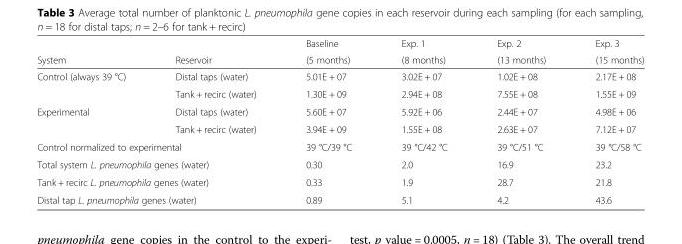table: (36, 37, 643, 205)
table column: (149, 37, 280, 205), (36, 37, 149, 205), (471, 37, 570, 205), (375, 37, 471, 205), (280, 37, 375, 205), (570, 37, 643, 205)
table column header: (36, 37, 643, 67)
table row: (36, 84, 643, 102), (36, 102, 643, 120), (36, 137, 643, 155), (36, 155, 643, 173), (36, 67, 643, 84), (36, 120, 643, 137), (36, 173, 643, 190), (36, 51, 643, 67), (36, 190, 643, 205), (36, 37, 643, 51)
table spanning cell: (36, 137, 280, 155), (36, 155, 280, 173), (36, 173, 280, 190), (36, 67, 149, 102), (36, 102, 149, 137), (149, 37, 280, 67), (36, 190, 280, 205), (36, 37, 149, 67), (471, 37, 570, 67), (375, 37, 471, 67), (280, 37, 375, 67), (570, 37, 643, 67)
